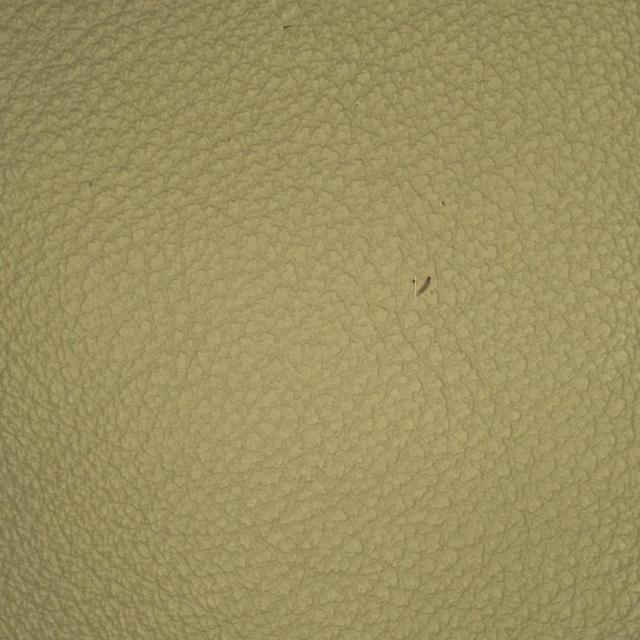Scratch: (333, 190, 523, 386)
